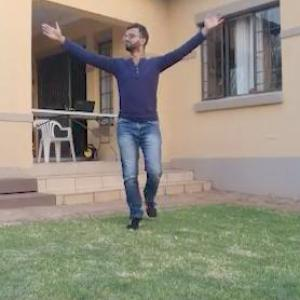takeoff: (40, 2, 238, 219)
